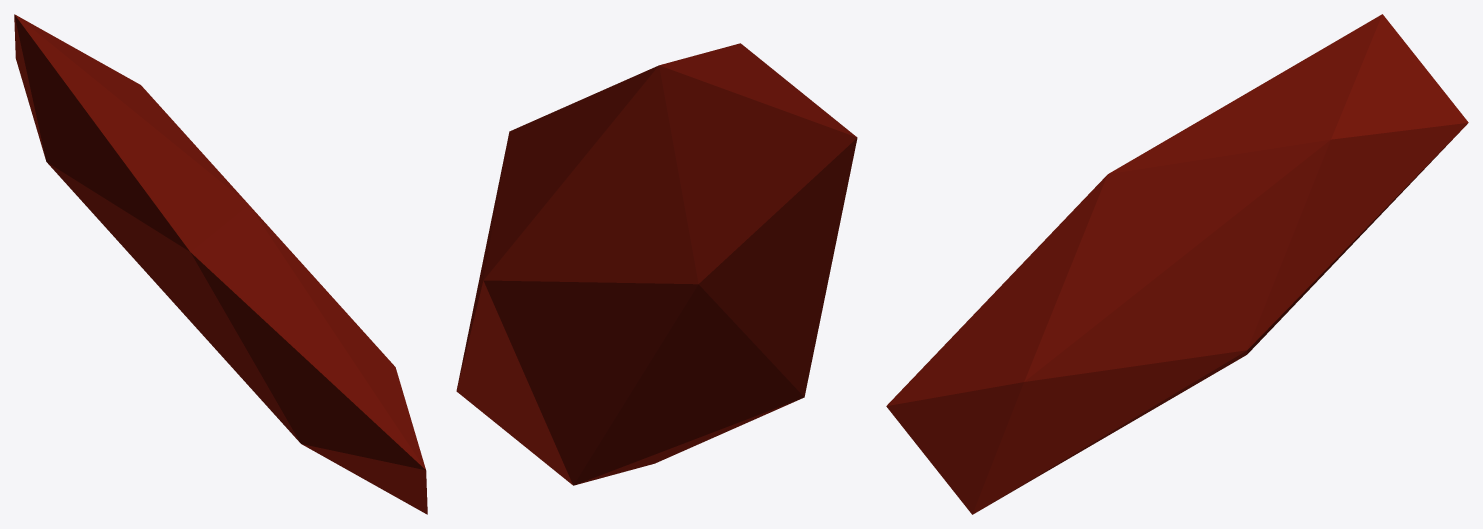
File: Platonic_25.gltf
The picture shows the model from 3 angles, left to right: view 1: azimuth 30°, elevation 25°; view 2: azimuth 150°, elevation 25°; view 3: azimuth 270°, elevation 25°; orthographic projection. The views are drawn at different scales.
Visible parts, largest first — view 1: Platonic_25; view 2: Platonic_25; view 3: Platonic_25.
Part boxes in pixels (x1,y1,x2,y2): Platonic_25: (14, 14, 427, 514); Platonic_25: (456, 43, 857, 485); Platonic_25: (886, 14, 1468, 514).
Size of the model in its own units: 11.17 by 20.6 by 27.21.
